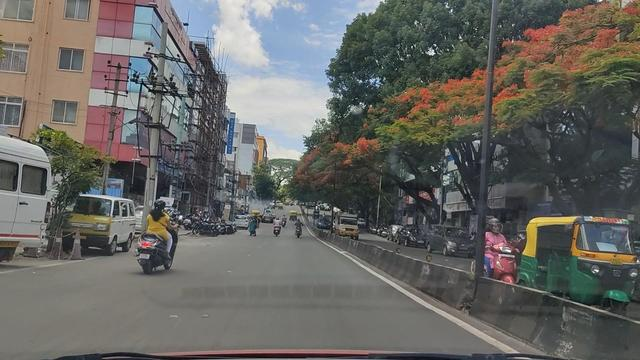LMV: (138, 198, 176, 285)
